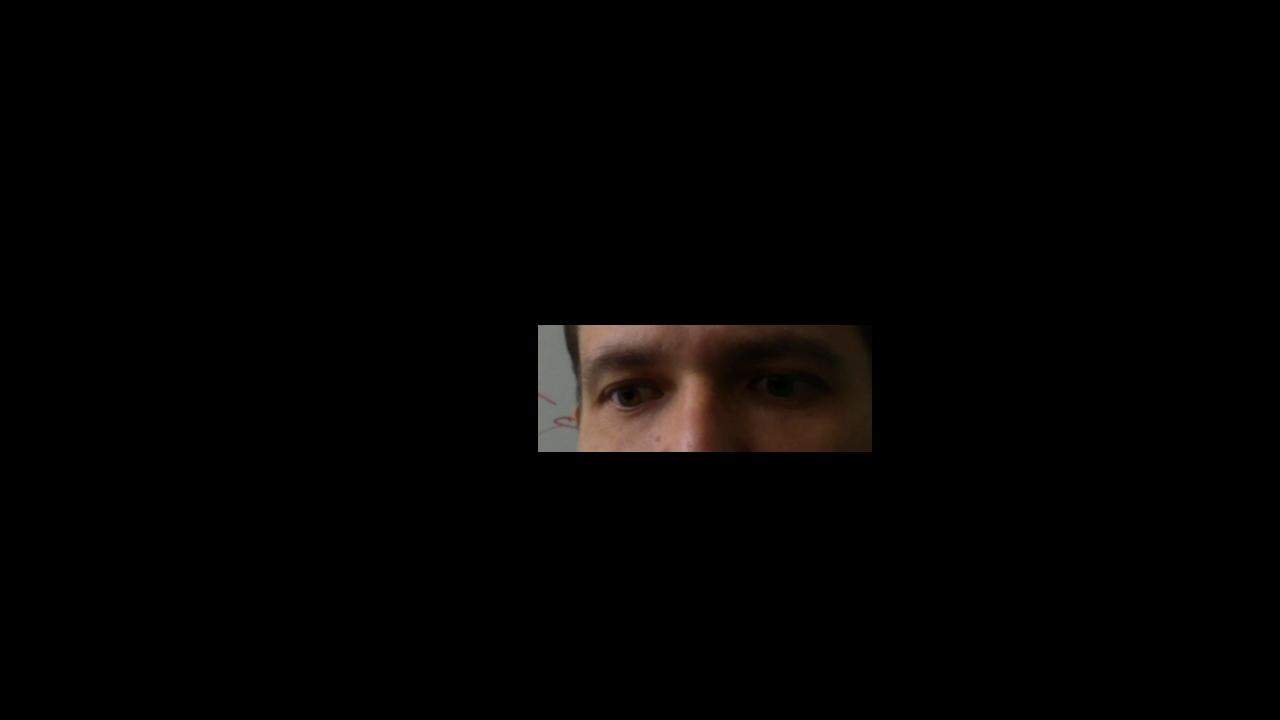eye: (762, 375, 794, 397), (617, 384, 644, 408)
